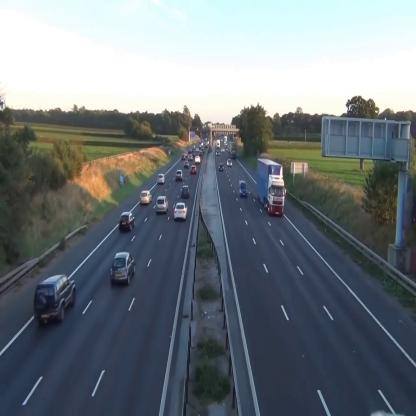car: (34, 275, 76, 324), (111, 252, 135, 284), (120, 212, 136, 232), (174, 203, 188, 220), (139, 190, 152, 205), (156, 196, 168, 212), (239, 181, 248, 196), (180, 185, 190, 198), (175, 170, 184, 180), (157, 173, 165, 182), (189, 166, 196, 174), (194, 155, 200, 163), (219, 162, 224, 171), (183, 161, 189, 168), (227, 159, 232, 166), (182, 152, 186, 159)
lorry: (258, 158, 288, 218)
